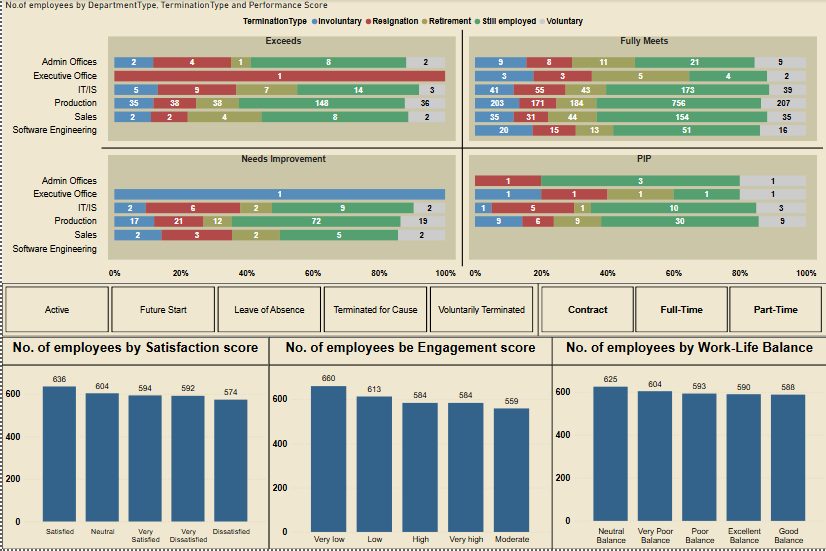

This screenshot's page, from the dashboard's own definition file:
{"tool":"powerbi","page":{"name":"Employee Engagement ","canvas":[1500,1000],"ordinal":1},"visuals":[{"type":"clusteredColumnChart","fields":{"Y":["employee_data.No.of employees"],"Category":["employee_engagement_survey_data.Satisfaction"]},"box":[0,665.5,485.5,334.5],"z":0},{"type":"columnChart","fields":{"Category":["employee_engagement_survey_data.Engagement Category"],"Y":["employee_data.No.of employees"]},"box":[485.5,665.5,514.5,334.5],"z":1000},{"type":"clusteredColumnChart","fields":{"Y":["employee_data.No.of employees"],"Category":["employee_engagement_survey_data.Work-Life Balance Category"]},"box":[999.1,664.5,500.9,335.5],"z":2000},{"type":"textbox","box":[1000,614.5,500,50.9],"z":3000},{"type":"textbox","box":[485.5,614.5,514.5,50.9],"z":4000},{"type":"textbox","box":[0,614.5,485.5,50.9],"z":5000},{"type":"hundredPercentStackedBarChart","fields":{"Category":["employee_data.DepartmentType"],"Series":["employee_data.TerminationType"],"Y":["employee_data.No.of employees"],"Rows":["employee_data.Performance Score"]},"box":[0,0,1500,516.4],"z":6000},{"type":"advancedSlicerVisual","fields":{"Values":["employee_data.EmployeeType"]},"box":[975.1,516.8,524.9,96.9],"z":7000},{"type":"advancedSlicerVisual","fields":{"Values":["employee_data.EmployeeStatus"]},"box":[0,516.8,975.1,96.9],"z":8000}]}

Visuals, with their boxes in screenshot pixels (x1, y1, x2, y2), scaled from the page's 1500x1000 canvas onto the 826x551 screenshot:
clusteredColumnChart - employee_data.No.of employees x employee_engagement_survey_data.Satisfaction: box=[0, 367, 267, 550]
columnChart - employee_engagement_survey_data.Engagement Category x employee_data.No.of employees: box=[267, 367, 551, 550]
clusteredColumnChart - employee_data.No.of employees x employee_engagement_survey_data.Work-Life Balance Category: box=[550, 366, 825, 550]
textbox: box=[551, 339, 825, 367]
textbox: box=[267, 339, 551, 367]
textbox: box=[0, 339, 267, 367]
hundredPercentStackedBarChart - employee_data.DepartmentType x employee_data.TerminationType: box=[0, 0, 825, 285]
advancedSlicerVisual - employee_data.EmployeeType: box=[537, 285, 825, 338]
advancedSlicerVisual - employee_data.EmployeeStatus: box=[0, 285, 537, 338]
